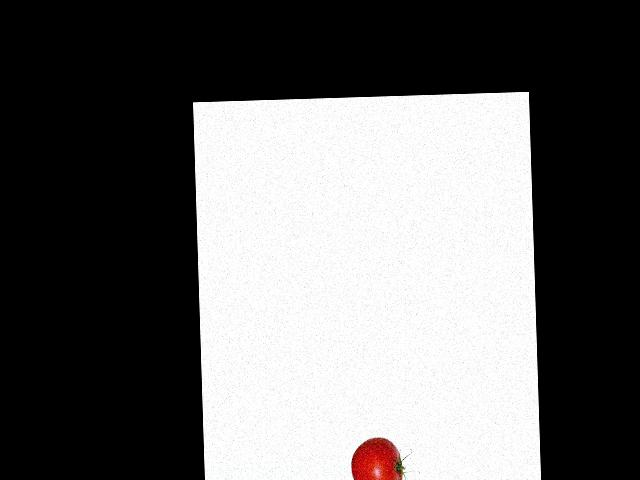tomato: (350, 437, 403, 480)
